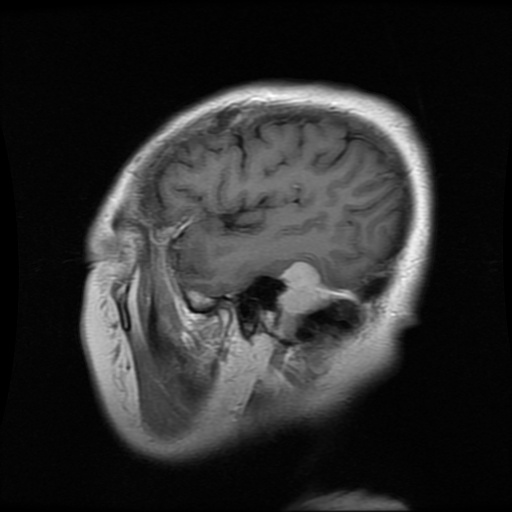meningioma: (277, 261, 357, 315)
